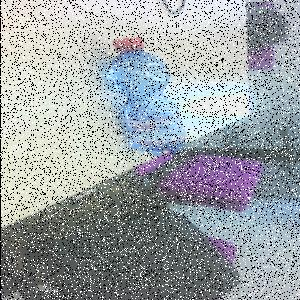Plastic-bottle: (106, 37, 190, 158)
